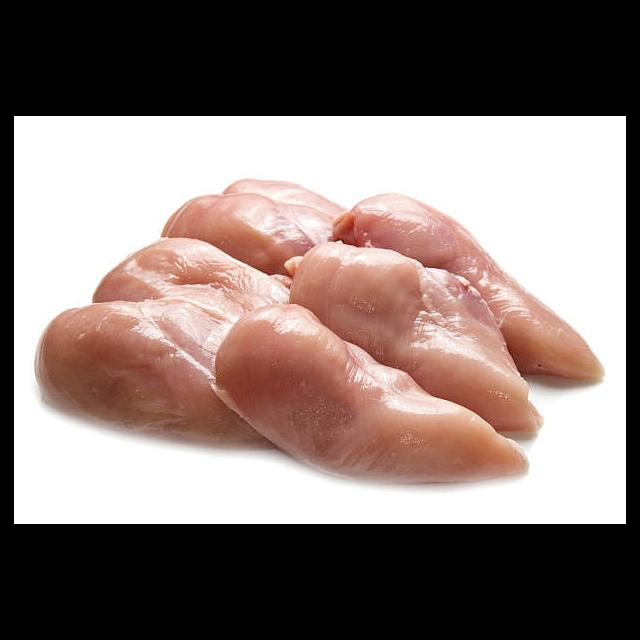chicken: (215, 303, 528, 486), (331, 191, 609, 387), (290, 239, 544, 448), (32, 298, 308, 452), (92, 236, 294, 313), (159, 193, 318, 279), (224, 183, 360, 242)
